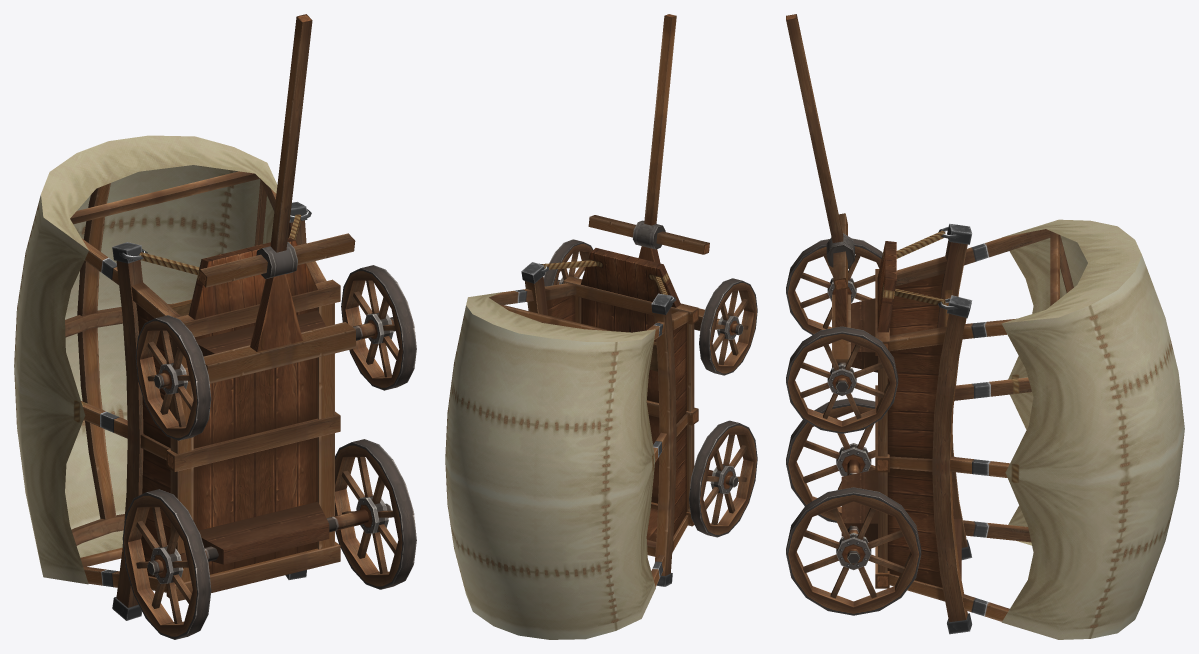
File: cart4.fbx
3 views of the same model, side by side, from view 1: azimuth 30°, elevation 25°; view 2: azimuth 150°, elevation 25°; view 3: azimuth 270°, elevation 25° (orthographic). The views are drawn at different scales.
Visible parts, largest first — view 1: cart4_LOD0; view 2: cart4_LOD0; view 3: cart4_LOD0.
Part boxes in pixels (x1,y1,x2,y2): cart4_LOD0: (14,14,416,639); cart4_LOD0: (445,14,757,639); cart4_LOD0: (786,14,1184,639).
Size of what is drawn, in the model's own units: 2.8 by 7.19 by 4.42.
